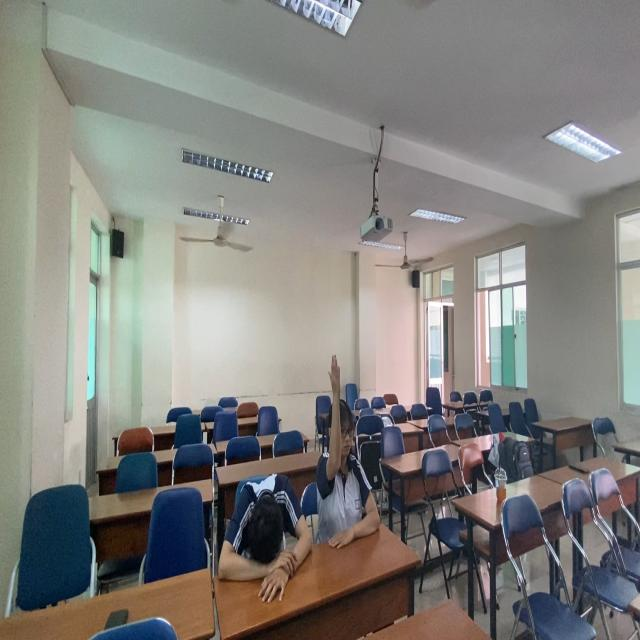raise_hand: (319, 351, 382, 544)
sleep: (209, 471, 315, 608)
